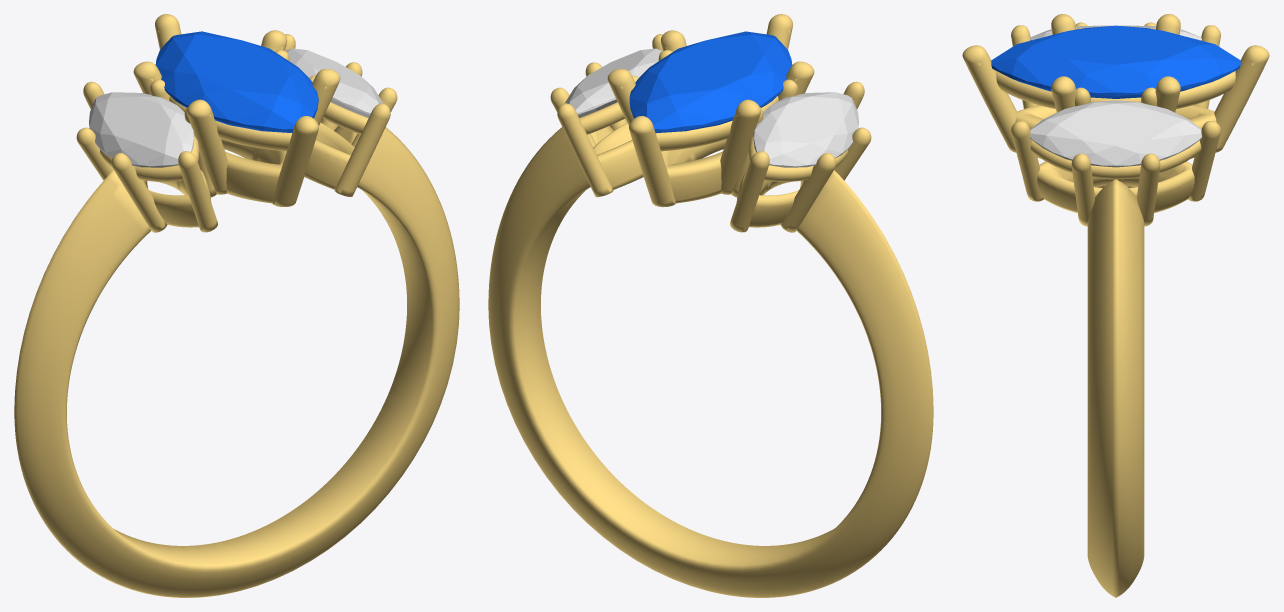
Rendered from bluesapphire-marquise-yellowgold-6prong-knifeedge-3stone.glb.
3 views of the same model, side by side, from view 1: azimuth 30°, elevation 25°; view 2: azimuth 150°, elevation 25°; view 3: azimuth 270°, elevation 25° (orthographic).
Parts seen in each view (by area): view 1: metal.001, stone.001, side.003, side.002; view 2: metal.001, stone.001, side.003, side.002; view 3: metal.001, stone.001, side.002.
Boxes of the visible parts, left/top/right/bottom form: metal.001: left=14, top=14, right=459, bottom=597; stone.001: left=155, top=31, right=318, bottom=132; side.003: left=89, top=92, right=194, bottom=167; side.002: left=285, top=48, right=382, bottom=117; metal.001: left=488, top=14, right=933, bottom=597; stone.001: left=629, top=31, right=792, bottom=133; side.003: left=753, top=92, right=858, bottom=167; side.002: left=565, top=48, right=662, bottom=117; metal.001: left=962, top=14, right=1269, bottom=597; stone.001: left=991, top=25, right=1240, bottom=98; side.002: left=1030, top=100, right=1201, bottom=167.
Size of the model in its own units: 20.1 by 22.73 by 11.96.
